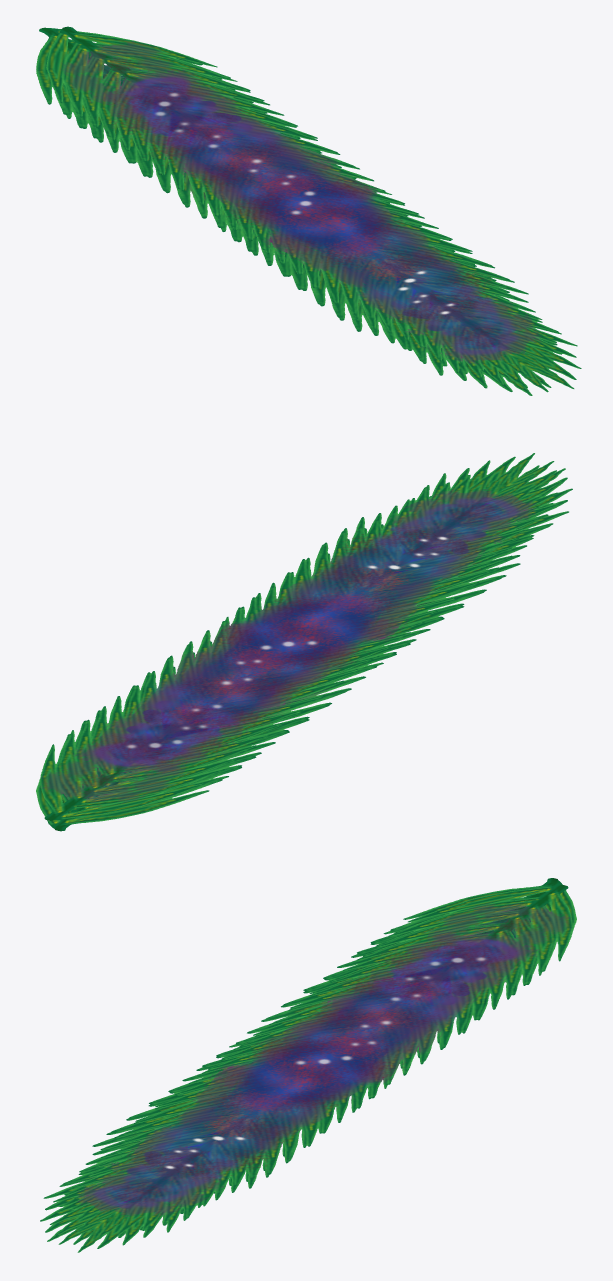
File: LeafHealth.fbx
3 renders of one model, top to bottom at view 1: azimuth 30°, elevation 25°; view 2: azimuth 150°, elevation 25°; view 3: azimuth 330°, elevation 25°, orthographic.
Parts seen in each view (by area): view 1: pCube2; view 2: pCube2; view 3: pCube2.
Boxes of the visible parts, x1,y1,x2,y2 form: pCube2: (36, 26, 581, 395); pCube2: (36, 453, 572, 831); pCube2: (40, 878, 576, 1252).
Size of the model in its own units: 1.23 by 0.0142 by 6.1.
